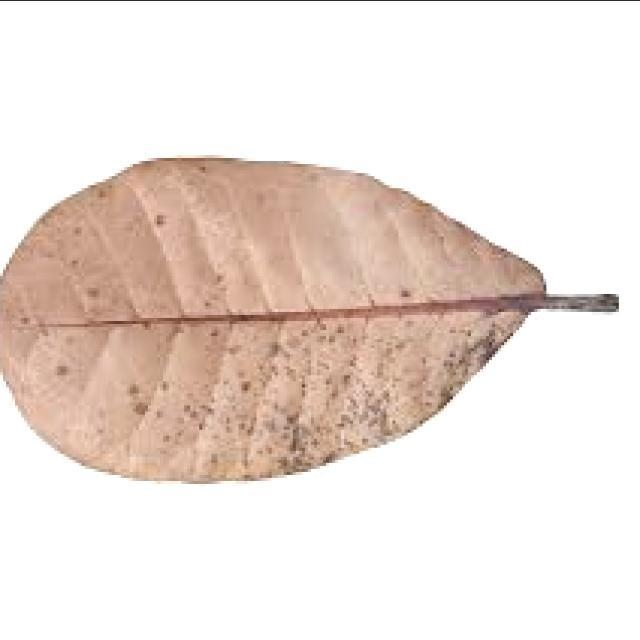leaf: (0, 155, 618, 483)
